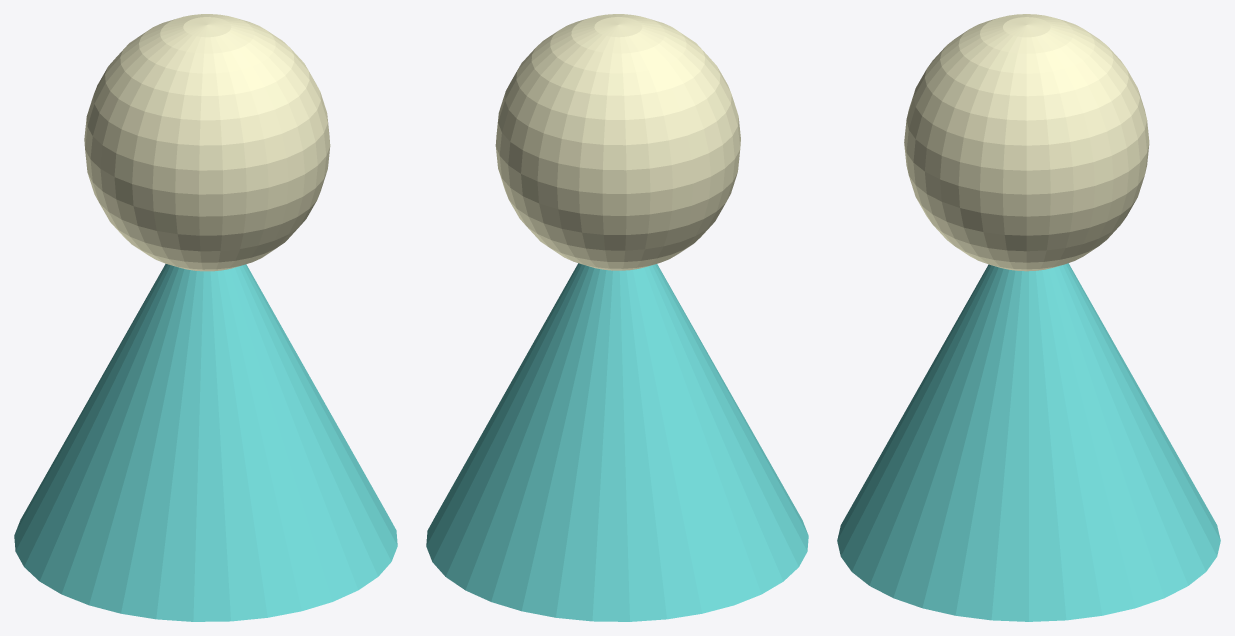
File: civ.fbx
3 renders of one model, left to right at view 1: azimuth 30°, elevation 25°; view 2: azimuth 150°, elevation 25°; view 3: azimuth 270°, elevation 25°, orthographic.
Parts seen in each view (by area): view 1: Cone; view 2: Cone; view 3: Cone.
Part boxes in pixels (left/top/right/bottom): Cone: left=14, top=14, right=397, bottom=621; Cone: left=426, top=14, right=808, bottom=621; Cone: left=837, top=14, right=1220, bottom=621.
Bounding box in the file's own units: 80 × 119 × 80.
